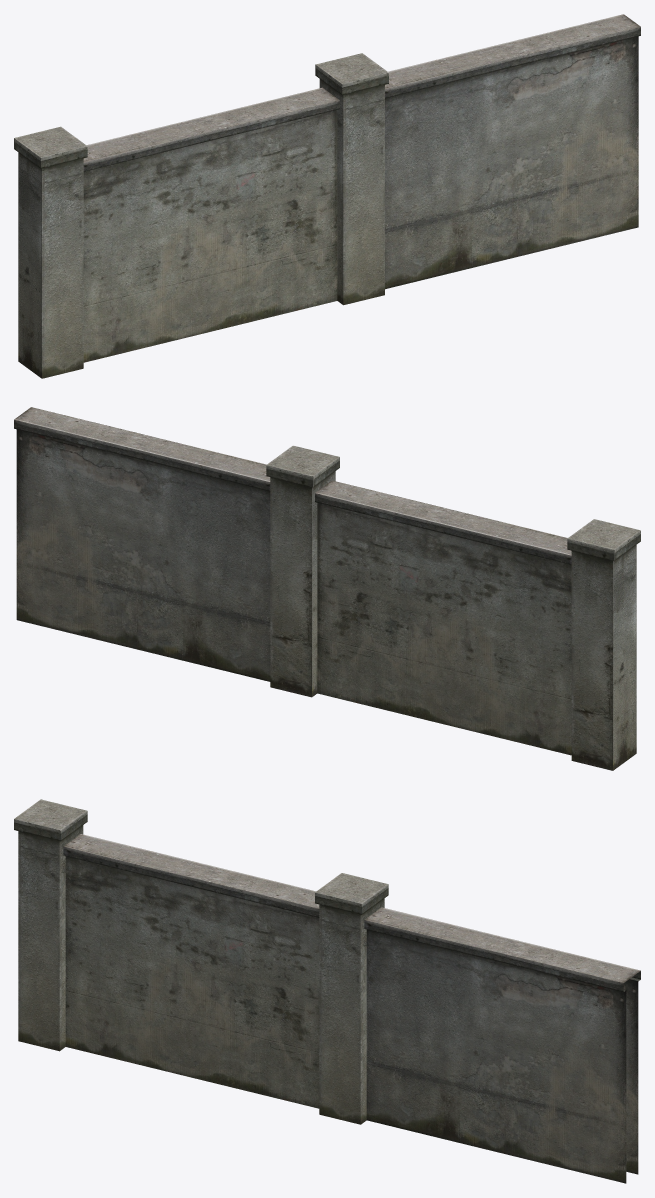
Rendered from Concrete_fence_v1_wall_set_v1 (5).glb.
3 renders of one model, top to bottom at view 1: azimuth 30°, elevation 25°; view 2: azimuth 150°, elevation 25°; view 3: azimuth 330°, elevation 25°, orthographic.
Parts seen in each view (by area): view 1: Concrete_fence_v1_wall_set_v1 (5); view 2: Concrete_fence_v1_wall_set_v1 (5); view 3: Concrete_fence_v1_wall_set_v1 (5).
Part boxes in pixels (x1,y1,x2,y2): Concrete_fence_v1_wall_set_v1 (5): [14, 14, 640, 378]; Concrete_fence_v1_wall_set_v1 (5): [14, 407, 640, 770]; Concrete_fence_v1_wall_set_v1 (5): [14, 799, 640, 1183].
Size of the model in its own units: 9.37 by 3.3 by 0.7198.
1 material, 1 textured.
